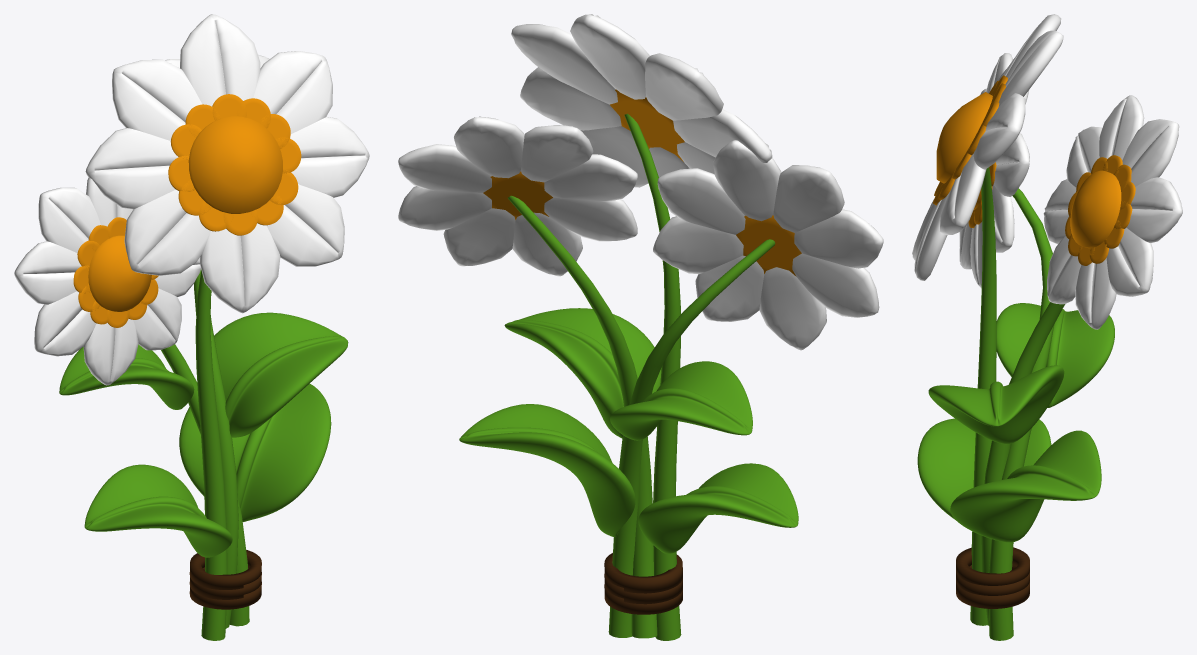
File: flower.glb
The picture shows the model from 3 angles, left to right: view 1: azimuth 30°, elevation 25°; view 2: azimuth 150°, elevation 25°; view 3: azimuth 270°, elevation 25°; orthographic projection. The views are drawn at different scales.
Visible parts, largest first — view 1: Cylinder.054, Cylinder.005, Cylinder, Cylinder.002, Cylinder.001, BézierCurve, Plane, Plane.005, Plane.003, Plane.006, Plane.001, Plane.007 (+17 smaller); view 2: Cylinder.005, Cylinder.002, Cylinder.054, Cylinder.009, BézierCurve, BézierCurve.002, BézierCurve.001, Plane, Plane.007, Plane.005, Plane.023, Plane.017 (+25 smaller); view 3: Cylinder.005, Cylinder.009, Cylinder.054, Cylinder.002, BézierCurve, BézierCurve.002, Cylinder.003, Plane.015, Cylinder.004, Plane.008, BézierCurve.001, Cylinder (+20 smaller).
Part boxes in pixels (left/top/right/bottom): Cylinder.054: left=214, top=312, right=348, bottom=437; Cylinder.005: left=179, top=383, right=331, bottom=521; Cylinder: left=188, top=116, right=282, bottom=213; Cylinder.002: left=84, top=464, right=232, bottom=557; Cylinder.001: left=168, top=94, right=301, bottom=235; BézierCurve: left=195, top=270, right=227, bottom=640; Plane: left=180, top=14, right=260, bottom=106; Plane.005: left=112, top=59, right=202, bottom=140; Plane.003: left=85, top=128, right=178, bottom=209; Plane.006: left=124, top=189, right=210, bottom=275; Plane.001: left=200, top=223, right=280, bottom=313; Plane.007: left=253, top=51, right=332, bottom=133; Cylinder.005: left=459, top=404, right=635, bottom=536; Cylinder.002: left=638, top=463, right=798, bottom=553; Cylinder.054: left=504, top=308, right=661, bottom=438; Cylinder.009: left=610, top=361, right=752, bottom=440; BézierCurve: left=624, top=113, right=681, bottom=640; BézierCurve.002: left=608, top=239, right=775, bottom=637; BézierCurve.001: left=508, top=195, right=657, bottom=638; Plane: left=570, top=14, right=649, bottom=99; Plane.007: left=511, top=24, right=617, bottom=104; Plane.005: left=645, top=53, right=723, bottom=120; Plane.023: left=657, top=168, right=745, bottom=234; Plane.017: left=759, top=267, right=826, bottom=350; Cylinder.005: left=950, top=430, right=1101, bottom=542; Cylinder.009: left=996, top=303, right=1114, bottom=407; Cylinder.054: left=928, top=365, right=1064, bottom=444; Cylinder.002: left=917, top=418, right=1051, bottom=519; BézierCurve: left=970, top=167, right=996, bottom=625; BézierCurve.002: left=988, top=188, right=1054, bottom=640; Cylinder.003: left=1070, top=170, right=1121, bottom=248; Plane.015: left=1126, top=177, right=1182, bottom=242; Cylinder.004: left=1065, top=155, right=1135, bottom=265; Plane.008: left=1122, top=119, right=1179, bottom=186; BézierCurve.001: left=981, top=302, right=1065, bottom=625; Cylinder: left=936, top=92, right=992, bottom=183.
Bounding box in the file's own units: 4.29 × 6.58 × 2.66.
